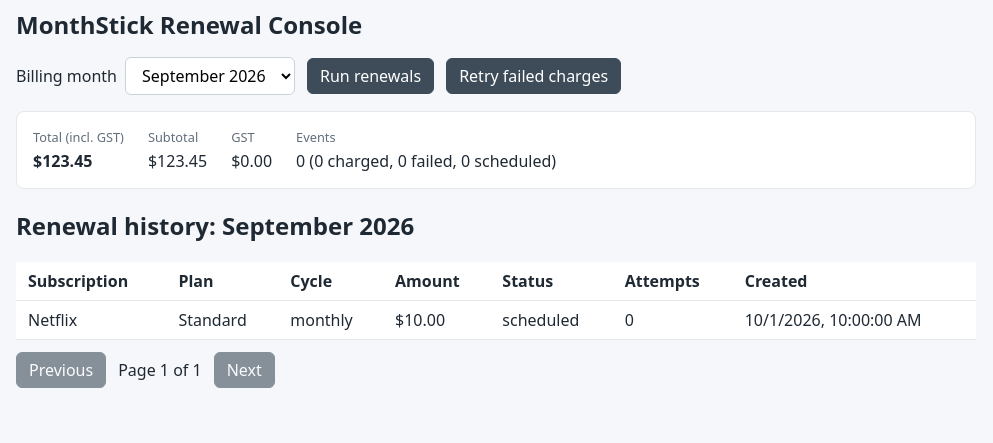
Scenario: App › retrying failed charges shows the result
The width and height of the screenshot is (993, 443).
expect the text "Netflix" is shown: met, box [16, 300, 166, 339]
Click the button "Retry failed charges". click: (534, 76)
box: [446, 58, 621, 94]
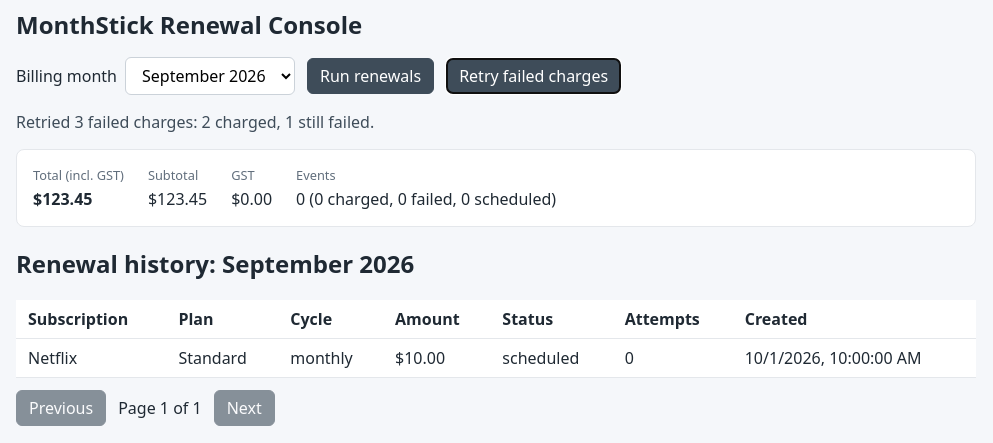
expect the text "Retried 3 failed charges: 2 charged, 1 still failed." is shown: met, box [16, 111, 374, 133]
